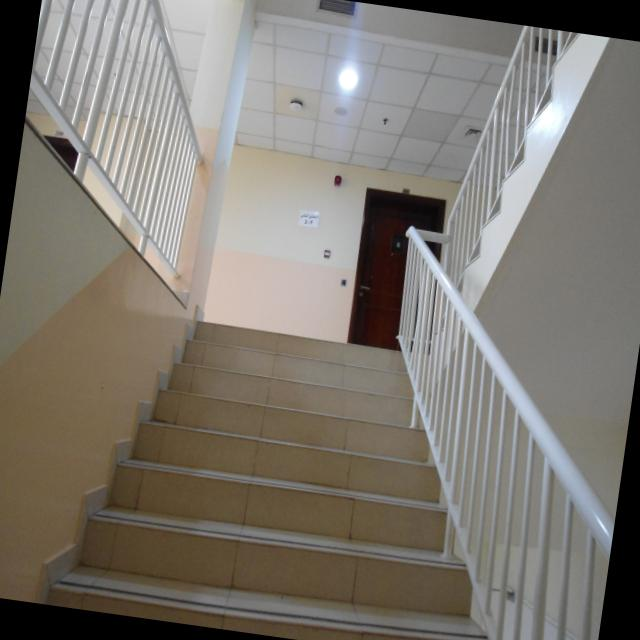door: (340, 186, 460, 360)
pillar: (167, 0, 260, 311)
railing: (341, 224, 640, 640), (5, 0, 228, 290), (435, 18, 592, 300)
sign: (290, 207, 324, 240)
stairs: (38, 297, 536, 640)
